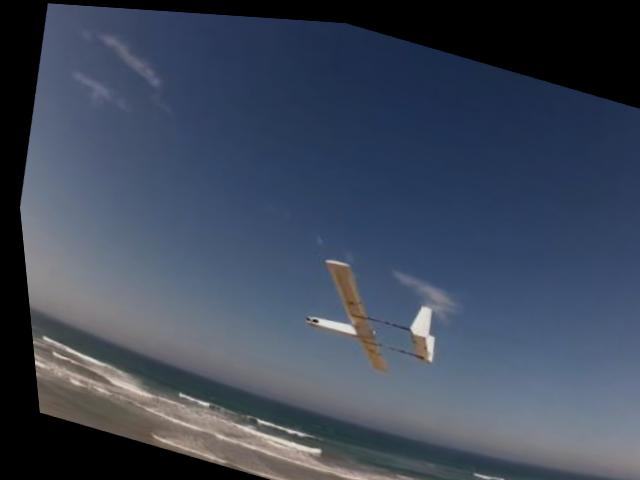uav: (280, 239, 455, 391)
